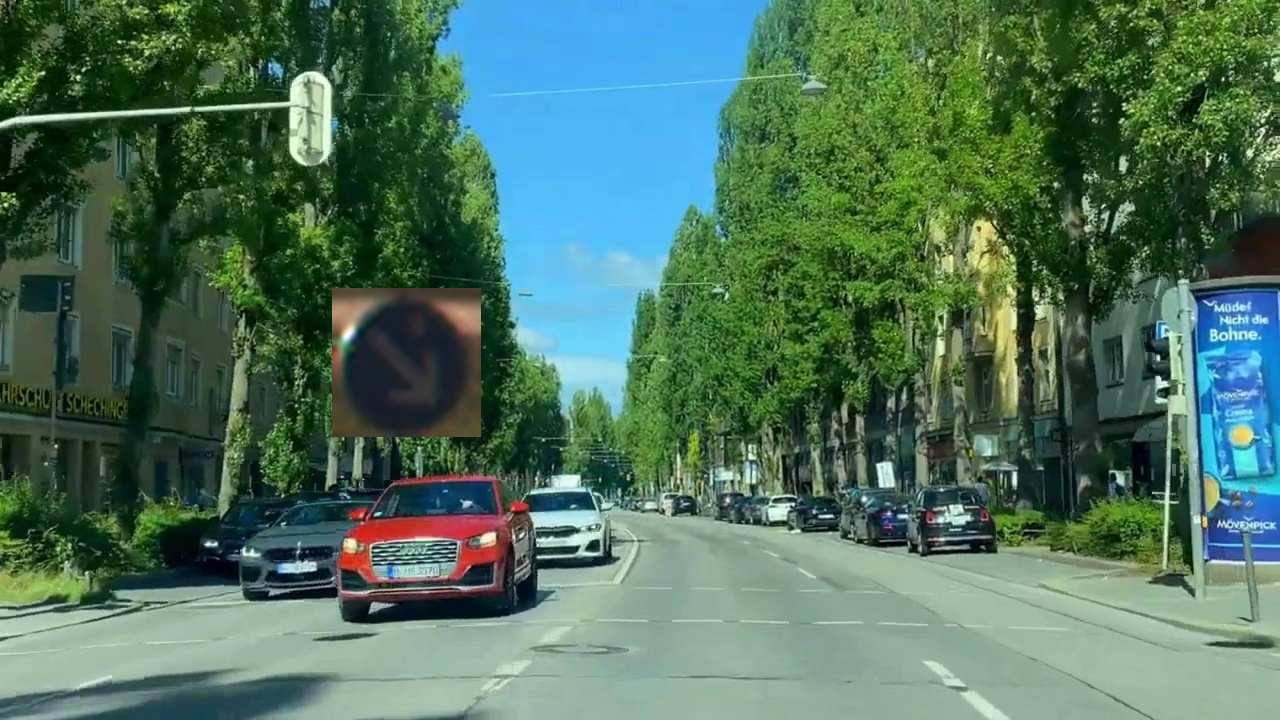Keep right: (332, 288, 481, 437)
